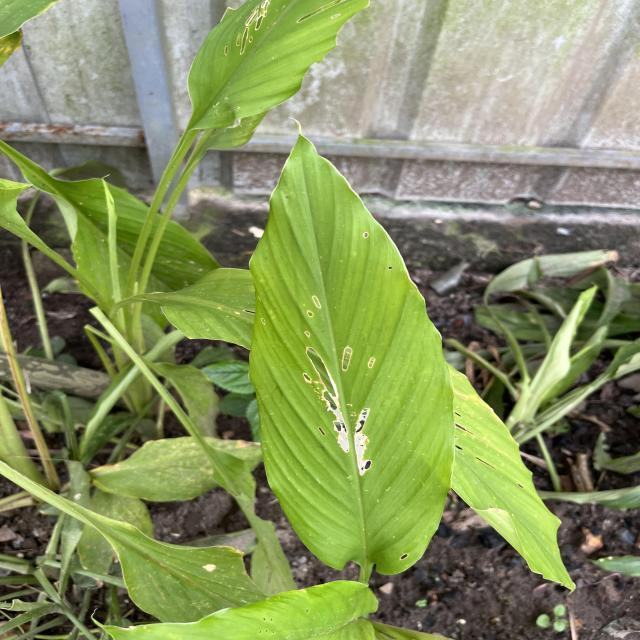Curcuma longa: (244, 111, 460, 578)
